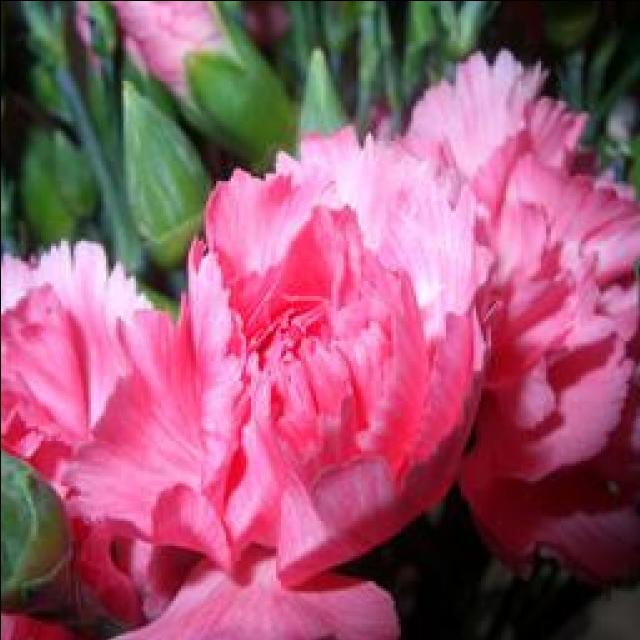carnation: (0, 127, 492, 568)
